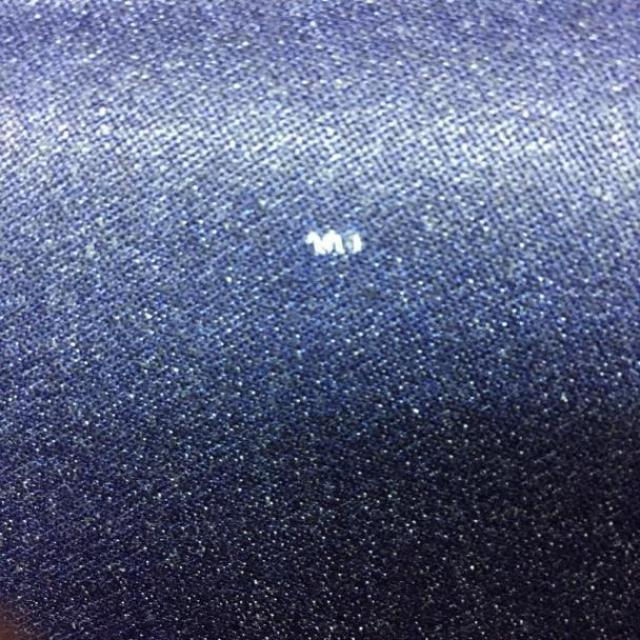Knot: (305, 229, 363, 256)
